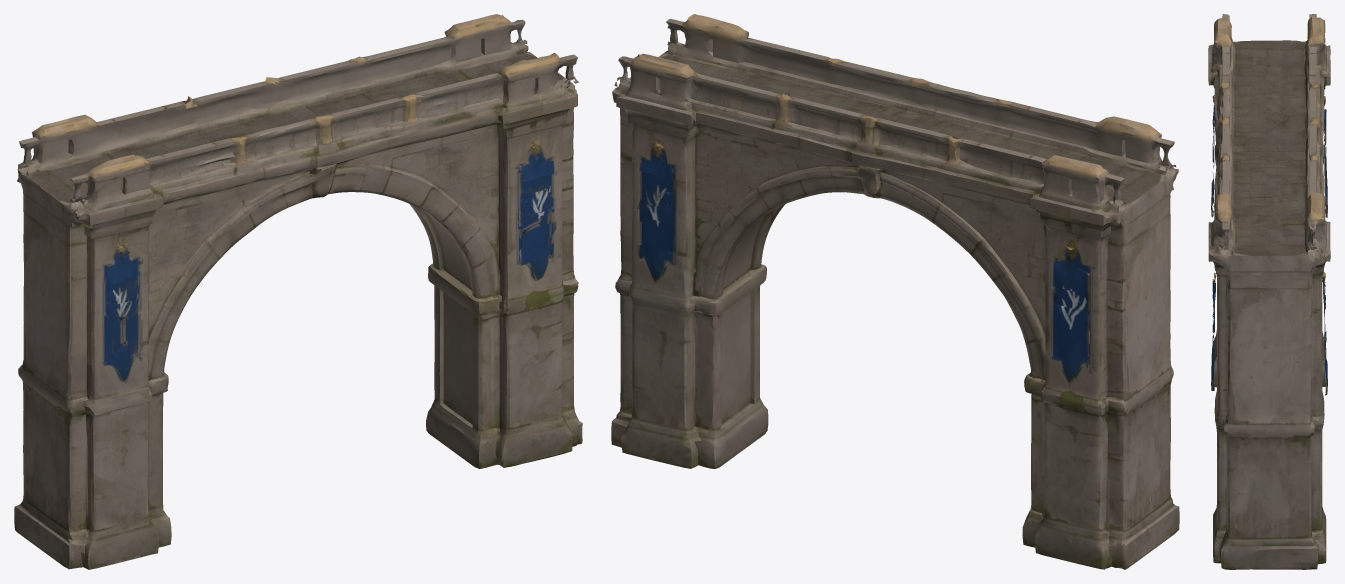
The model's file is cloudreach_aviary_arch_bridge.glb.
3 renders of one model, left to right at view 1: azimuth 30°, elevation 25°; view 2: azimuth 150°, elevation 25°; view 3: azimuth 270°, elevation 25°, orthographic. The views are drawn at different scales.
Parts seen in each view (by area): view 1: Mesh_0; view 2: Mesh_0; view 3: Mesh_0.
Part boxes in pixels (left/top/right/bottom): Mesh_0: left=14, top=14, right=582, bottom=569; Mesh_0: left=611, top=14, right=1179, bottom=569; Mesh_0: left=1208, top=14, right=1330, bottom=569.
Size of the model in its own units: 24 by 17.74 by 5.68.
Materials: 1 (1 with a texture image).
